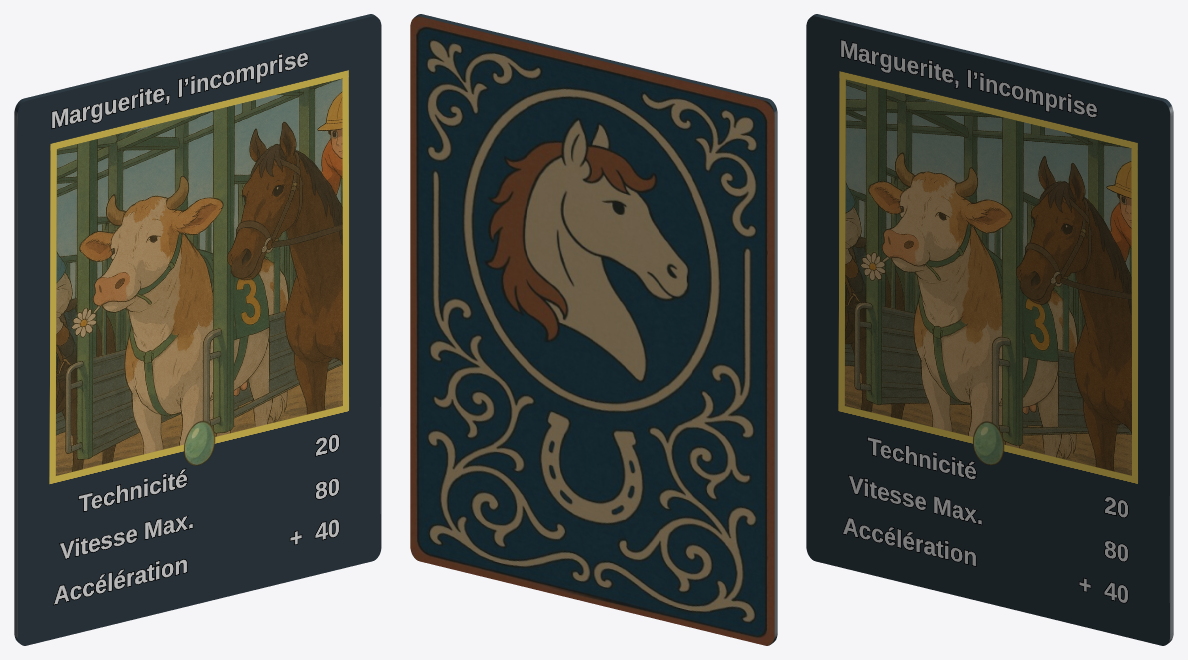
File: Marguerite.glb
The picture shows the model from 3 angles, left to right: view 1: azimuth 30°, elevation 25°; view 2: azimuth 150°, elevation 25°; view 3: azimuth 330°, elevation 25°; orthographic projection.
Parts seen in each view (by area): view 1: Plane; view 2: Plane; view 3: Plane.
Boxes of the visible parts, <box> form: Plane: <box>14,14,381,645</box>; Plane: <box>410,14,777,645</box>; Plane: <box>806,14,1173,645</box>.
Bounding box in the file's own units: 3.5 × 5 × 0.05.
2 materials, 2 textured.
